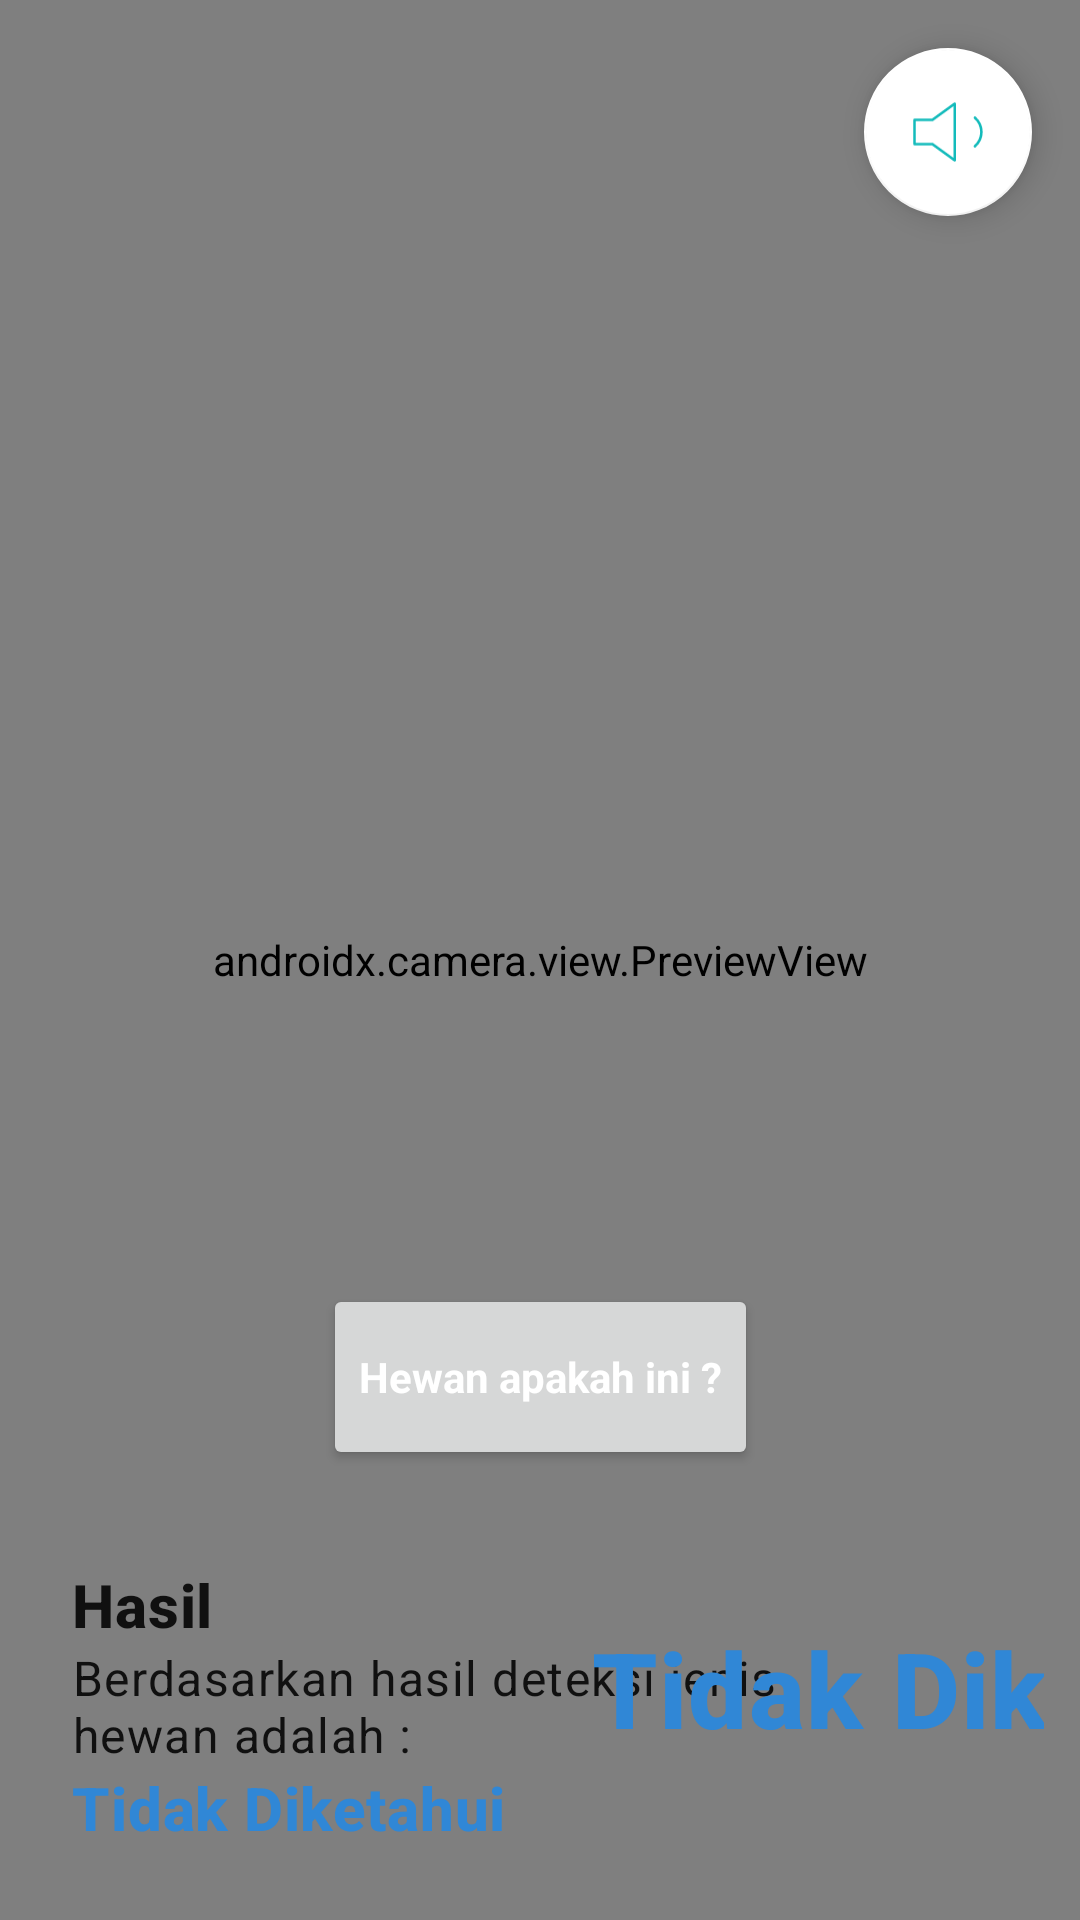

Icon click points for this 1080px×1920px phone screenshot, format (x=x, y=y):
sound: (x=948, y=132)
